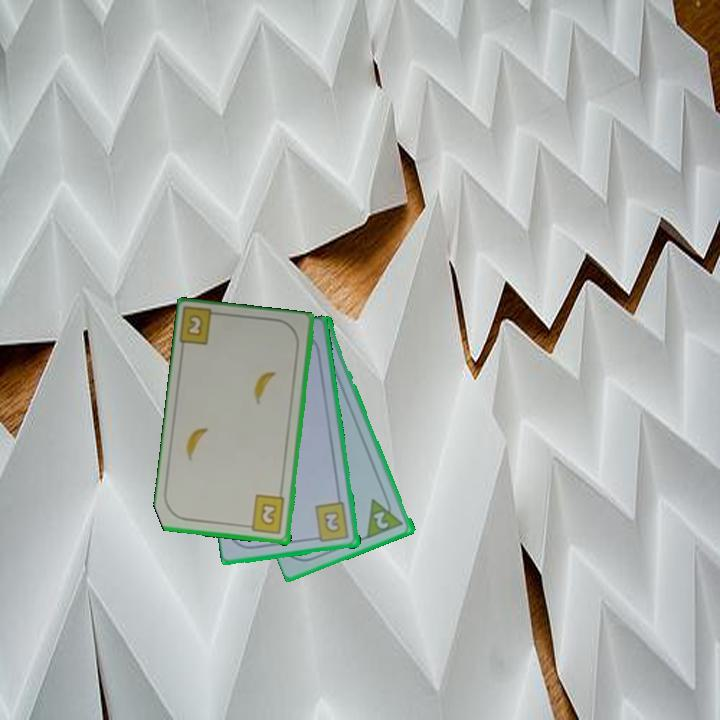2b: (242, 492, 288, 537), (178, 306, 226, 348), (310, 499, 352, 545)
2p: (364, 491, 407, 541)
